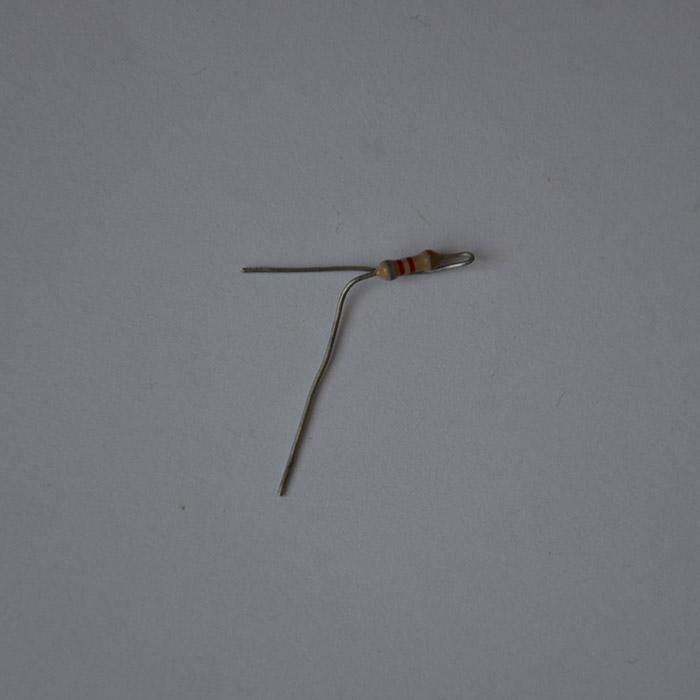resistor: (376, 248, 470, 281)
